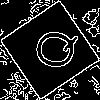Q: (25, 25, 79, 73)
